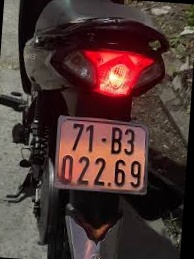Bien-so: (63, 114, 161, 189)
